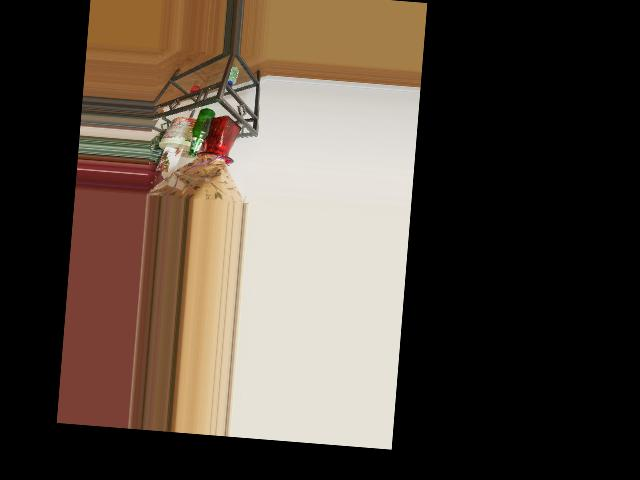beer: (188, 107, 215, 158)
